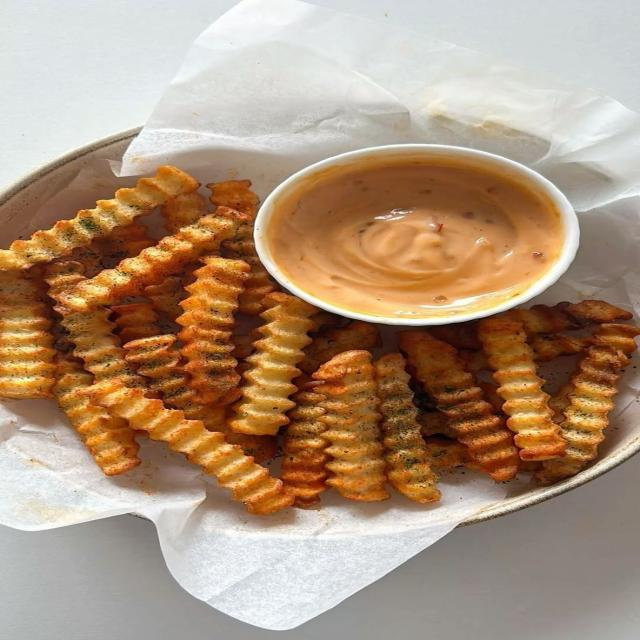potato fries: (85, 381, 293, 514), (0, 166, 198, 270), (125, 335, 277, 461), (63, 208, 245, 311), (400, 331, 519, 481), (535, 324, 639, 484), (535, 346, 628, 484), (46, 262, 146, 388), (479, 317, 566, 460), (231, 293, 317, 434), (314, 351, 389, 501), (176, 257, 250, 404), (54, 356, 140, 475), (375, 354, 440, 502), (207, 181, 277, 315), (0, 272, 55, 398), (281, 383, 330, 508), (300, 320, 380, 374), (95, 222, 155, 268), (207, 180, 259, 219), (506, 305, 573, 335), (161, 191, 206, 233), (144, 275, 186, 320), (112, 303, 159, 343), (425, 436, 477, 471), (528, 334, 591, 361), (529, 334, 591, 361), (563, 300, 632, 323), (429, 322, 480, 351), (593, 323, 639, 355), (69, 242, 103, 277), (417, 410, 457, 438), (548, 383, 573, 424), (479, 382, 503, 414), (459, 350, 489, 374)
